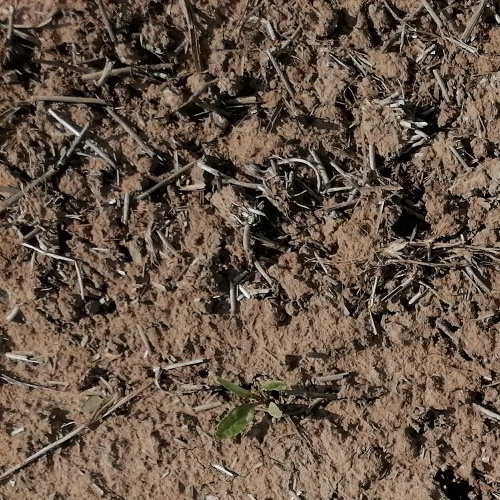beet: (213, 378, 286, 442)
